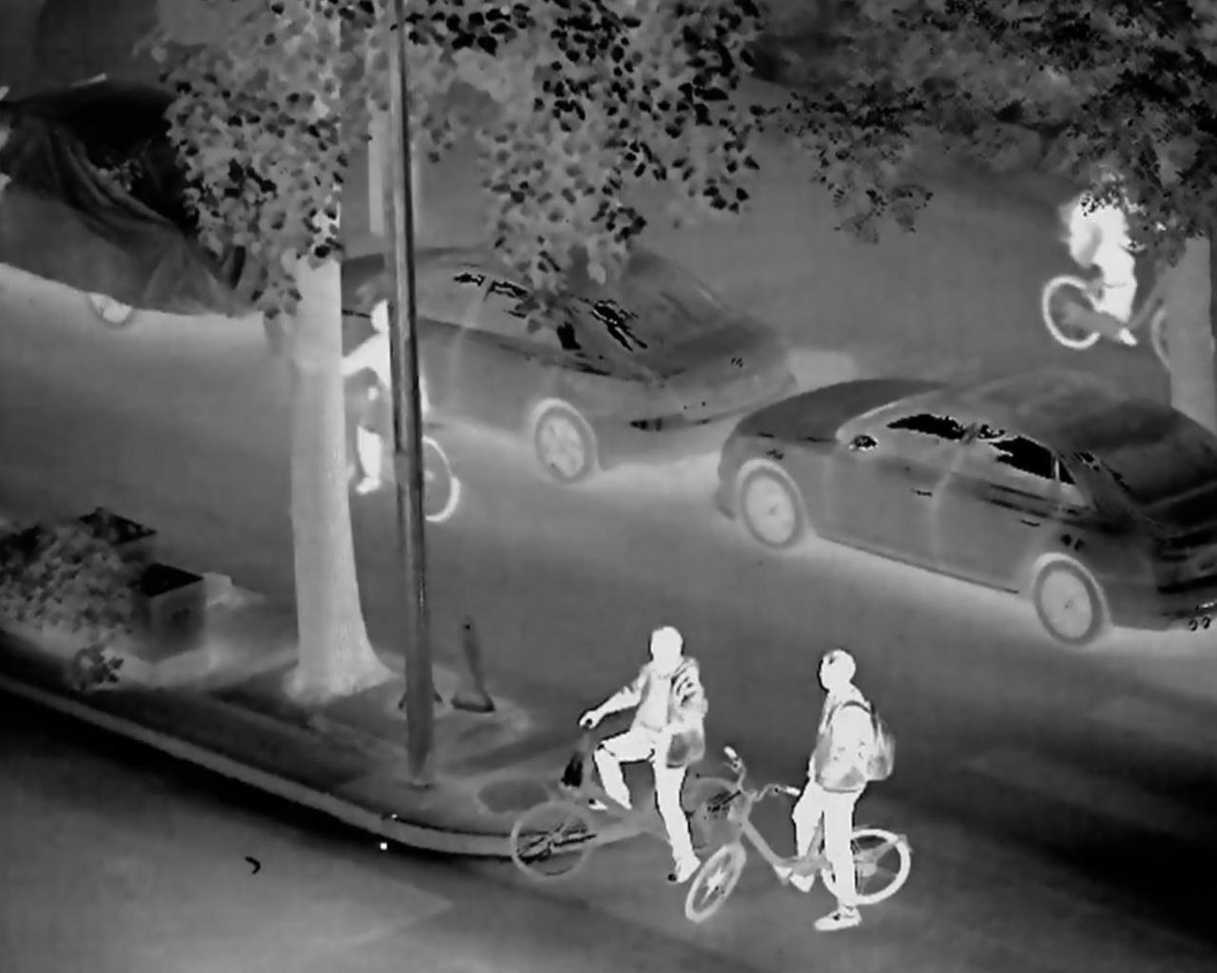person: (572, 610, 720, 889), (788, 636, 895, 927), (1028, 145, 1151, 378), (346, 269, 445, 507)
